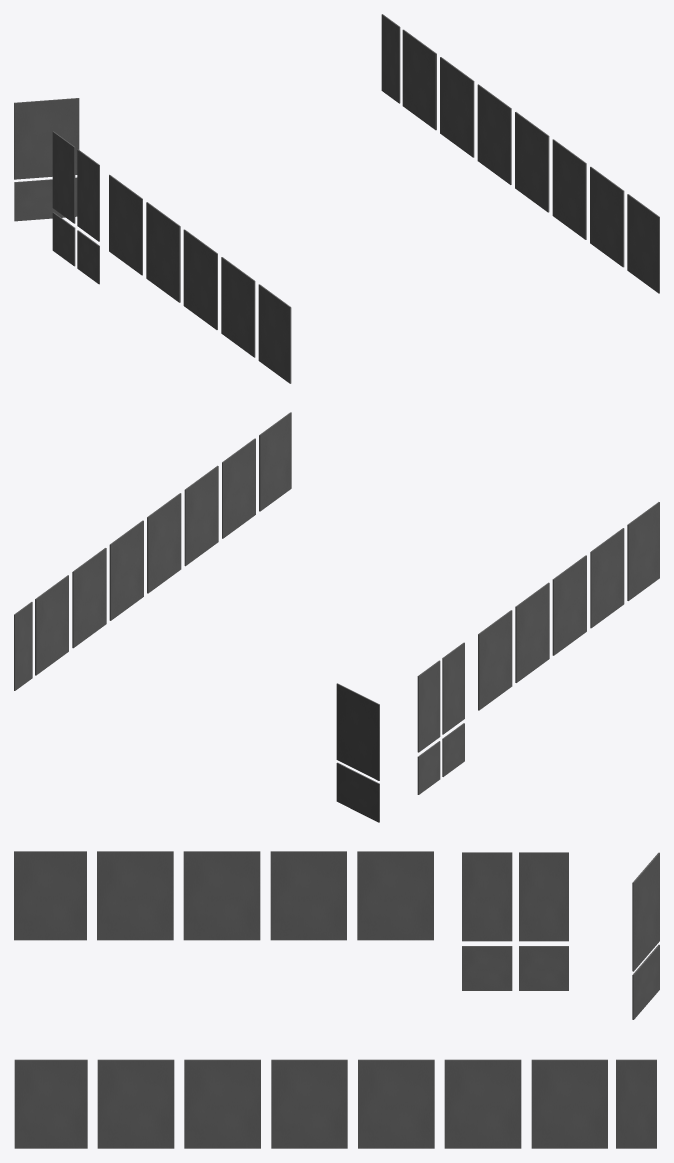
File: Ventanas.obj
3 views of the same model, one above another, from view 1: azimuth 30°, elevation 25°; view 2: azimuth 150°, elevation 25°; view 3: azimuth 270°, elevation 25° (orthographic). The views are drawn at different scales.
Parts seen in each view (by area): view 1: Ventanas_Vidrio; view 2: Ventanas_Vidrio; view 3: Ventanas_Vidrio.
Boxes of the visible parts, left/top/right/bottom form: Ventanas_Vidrio: left=14, top=14, right=659, bottom=383; Ventanas_Vidrio: left=14, top=412, right=659, bottom=822; Ventanas_Vidrio: left=14, top=851, right=659, bottom=1148.
Bounding box in the file's own units: 109 × 33.5 × 142.
Materials: 1 (1 with a texture image).
